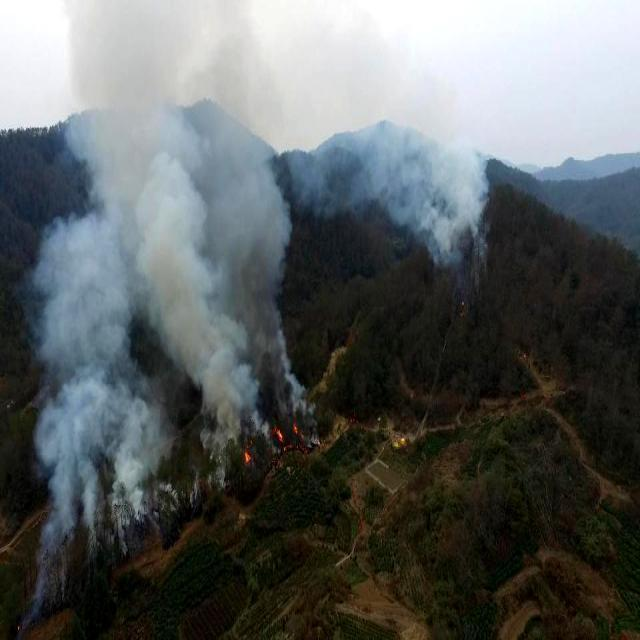Smoke: (33, 0, 307, 546), (364, 76, 496, 271)
